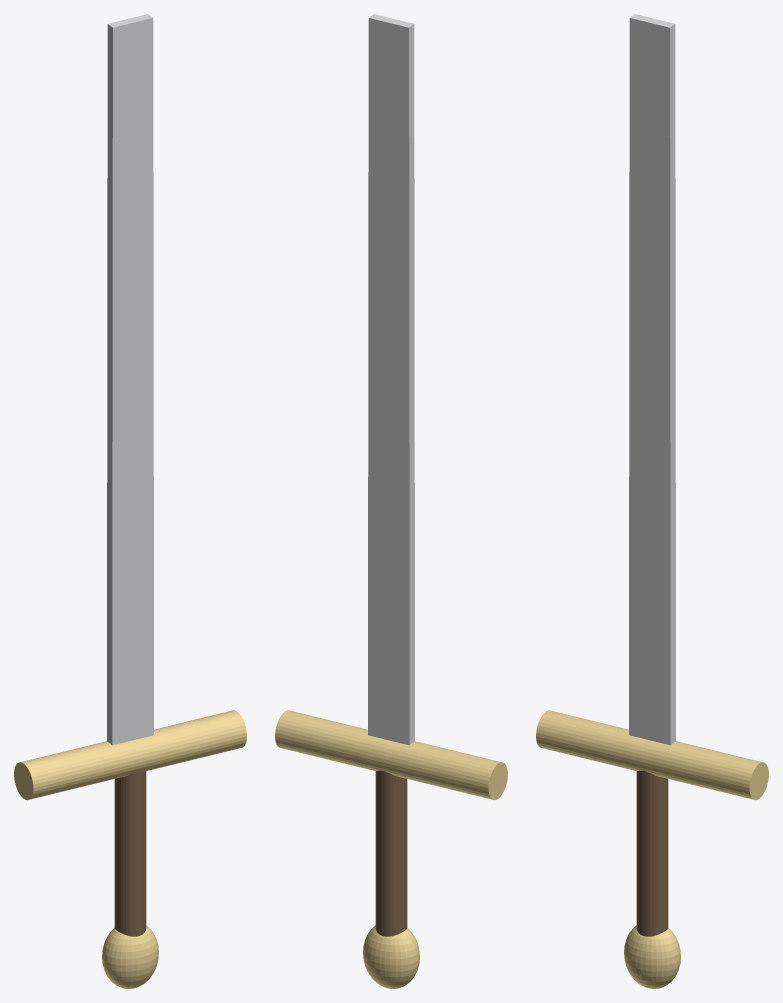
File: longsword.glb
3 renders of one model, left to right at view 1: azimuth 30°, elevation 25°; view 2: azimuth 150°, elevation 25°; view 3: azimuth 330°, elevation 25°, orthographic.
Visible parts, largest first — view 1: Longsword; view 2: Longsword; view 3: Longsword.
Part boxes in pixels (x1,y1,x2,y2): Longsword: (14,14,246,988); Longsword: (275,14,507,988); Longsword: (536,14,768,988).
Bounding box in the file's own units: 0.28 × 1.21 × 0.0544.
